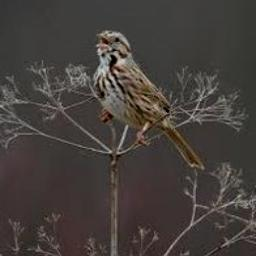Sparrow: (91, 30, 205, 170)
